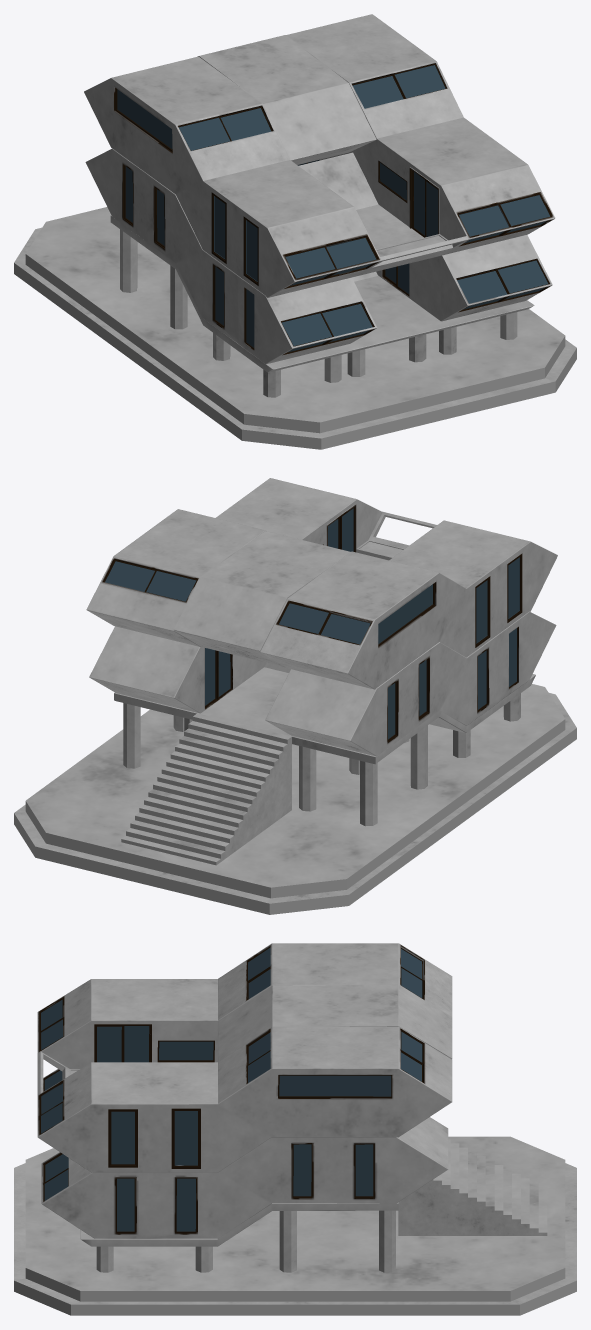
Rendered from modapar.glb.
The picture shows the model from 3 angles, top to bottom: view 1: azimuth 30°, elevation 25°; view 2: azimuth 150°, elevation 25°; view 3: azimuth 270°, elevation 25°; orthographic projection.
Visible parts, largest first — view 1: modapar; view 2: modapar; view 3: modapar.
Part boxes in pixels (x1,y1,x2,y2): modapar: (14,14,576,449); modapar: (14,478,576,914); modapar: (14,943,576,1315).
Size of the model in its own units: 6.38 by 4.24 by 9.43.
Materials: 1 (1 with a texture image).
